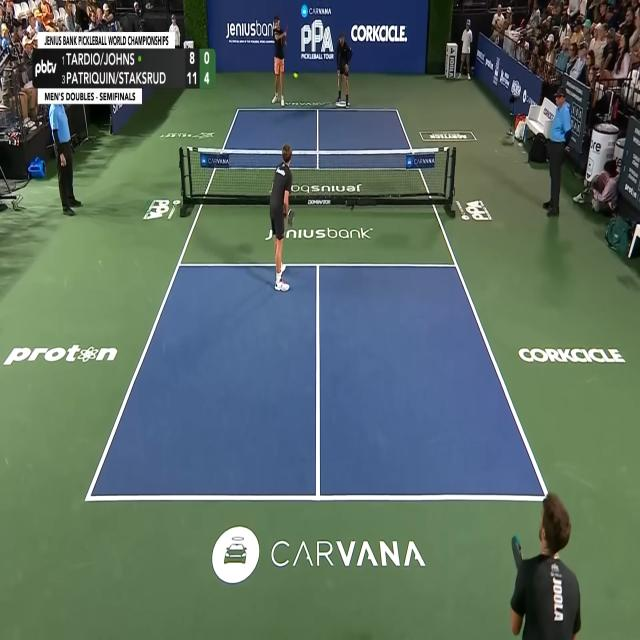ball: (293, 71, 299, 79)
